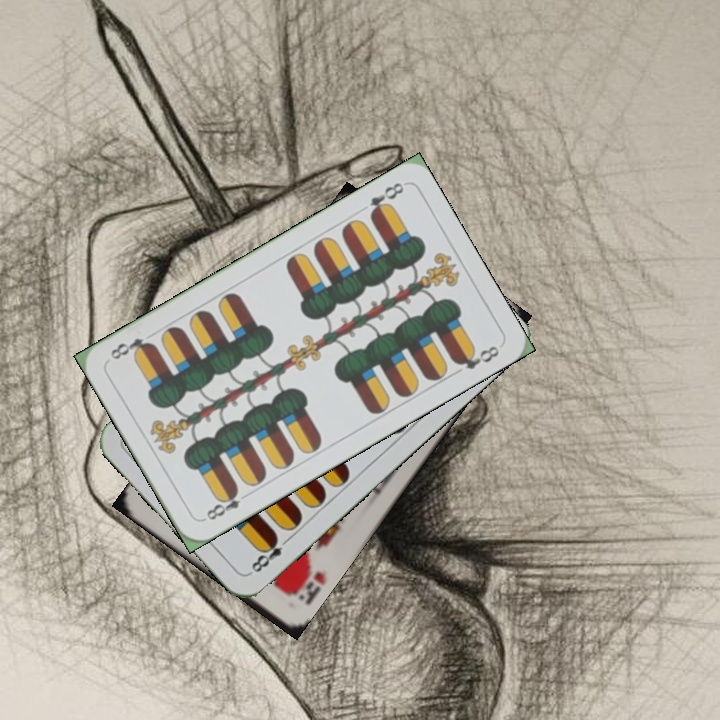E8: (245, 531, 294, 577), (199, 484, 253, 523), (365, 178, 407, 221)
HK: (285, 562, 329, 609)
